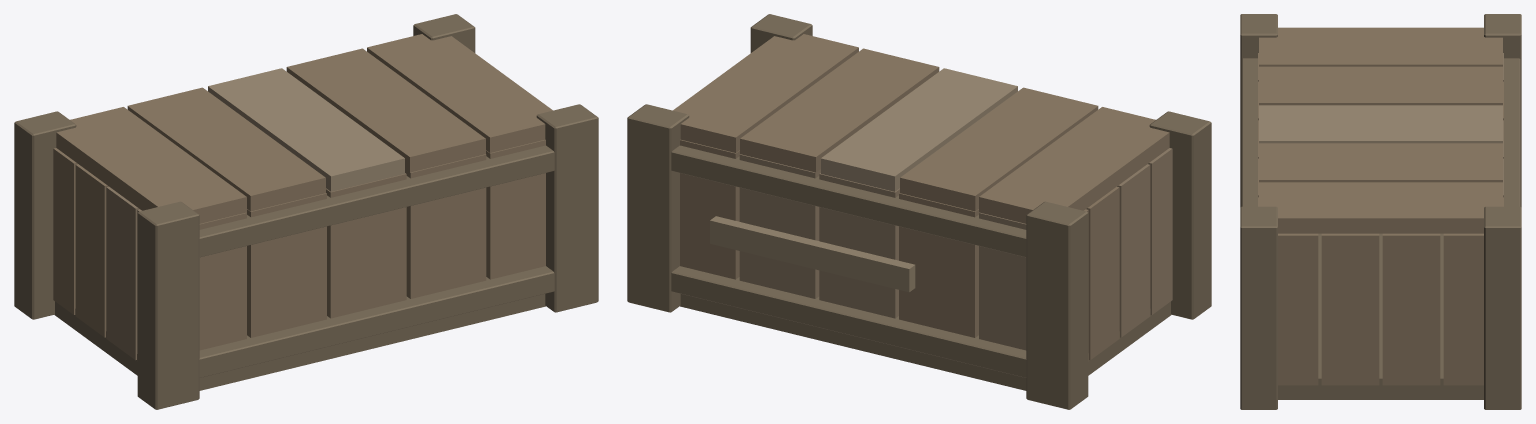
Rendered from env_crate_v12_wide_low.glb.
3 renders of one model, left to right at view 1: azimuth 30°, elevation 25°; view 2: azimuth 150°, elevation 25°; view 3: azimuth 270°, elevation 25°, orthographic.
Parts seen in each view (by area): view 1: material_0, material_2, material_1, material_5; view 2: material_0, material_2, material_5, material_1, material_6; view 3: material_0, material_2, material_1.
Boxes of the visible parts, x1,y1,x2,y2 form: material_0: [53, 34, 552, 350]; material_2: [14, 14, 598, 409]; material_1: [208, 68, 404, 191]; material_5: [106, 186, 141, 361]; material_0: [673, 34, 1169, 361]; material_2: [627, 14, 1211, 409]; material_5: [739, 148, 1172, 350]; material_1: [821, 68, 1017, 191]; material_6: [710, 216, 915, 292]; material_0: [1258, 27, 1503, 385]; material_2: [1240, 14, 1521, 409]; material_1: [1259, 105, 1502, 143].
Size of the model in its own units: 1.08 by 0.432 by 0.6.
